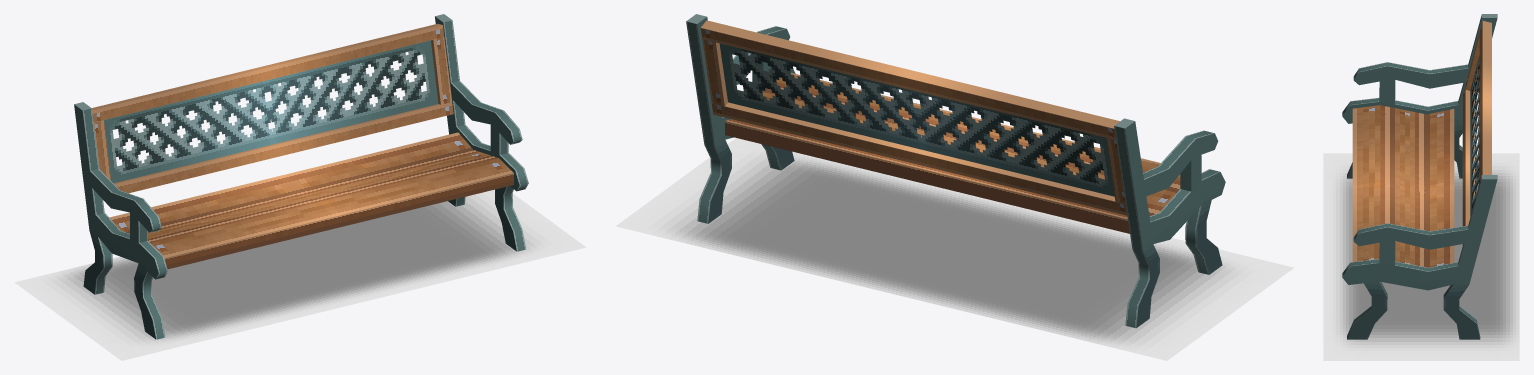
The model's file is Bench.fbx.
The picture shows the model from 3 angles, left to right: view 1: azimuth 30°, elevation 25°; view 2: azimuth 150°, elevation 25°; view 3: azimuth 270°, elevation 25°; orthographic projection. The views are drawn at different scales.
Visible parts, largest first — view 1: Bench1, shadow; view 2: Bench1, shadow; view 3: Bench1, shadow.
Part boxes in pixels (x1=…): Bench1: x1=74, y1=14, x2=528, y2=339; shadow: x1=14, y1=189, x2=586, y2=360; Bench1: x1=686, y1=14, x2=1225, y2=328; shadow: x1=616, y1=138, x2=1293, y2=360; Bench1: x1=1342, y1=14, x2=1497, y2=339; shadow: x1=1323, y1=153, x2=1519, y2=360.
Bounding box in the file's own units: 2.5 × 0.9114 × 1.
